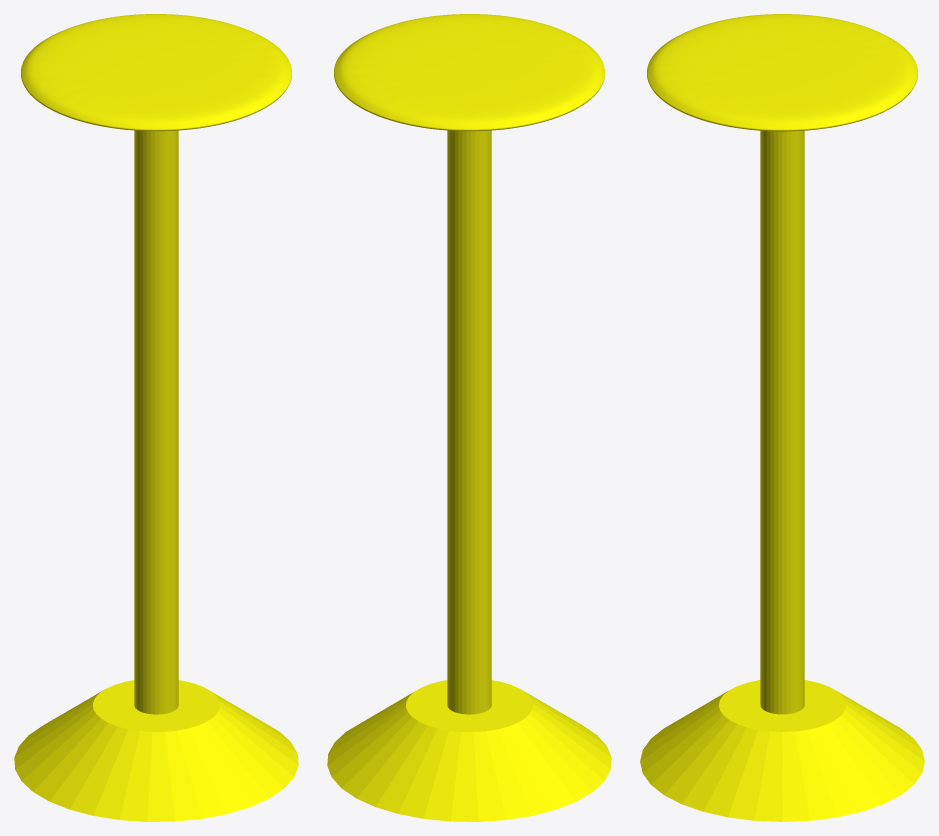
Rendered from drop_tower.obj.
3 renders of one model, left to right at view 1: azimuth 30°, elevation 25°; view 2: azimuth 150°, elevation 25°; view 3: azimuth 270°, elevation 25°, orthographic.
Visible parts, largest first — view 1: Cylinder.001, Cylinder, Circle; view 2: Cylinder.001, Cylinder, Circle; view 3: Cylinder.001, Cylinder, Circle.
Part boxes in pixels (bbox=[...]): Cylinder.001: bbox=[14, 680, 298, 821]; Cylinder: bbox=[134, 130, 178, 714]; Circle: bbox=[21, 14, 291, 131]; Cylinder.001: bbox=[327, 680, 611, 821]; Cylinder: bbox=[447, 130, 491, 714]; Circle: bbox=[334, 14, 604, 131]; Cylinder.001: bbox=[640, 680, 924, 821]; Cylinder: bbox=[760, 130, 804, 714]; Circle: bbox=[647, 14, 917, 131].
Bounding box in the file's own units: 12.86 × 34.68 × 12.86.
2 materials, 2 textured.
